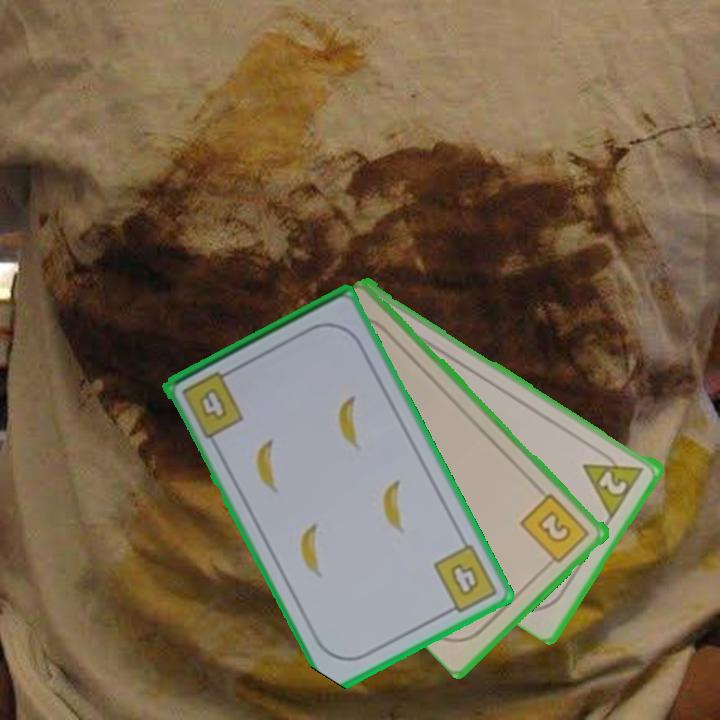2b: (517, 490, 593, 570)
2p: (580, 445, 647, 519)
4b: (430, 540, 501, 618), (199, 388, 229, 424)
